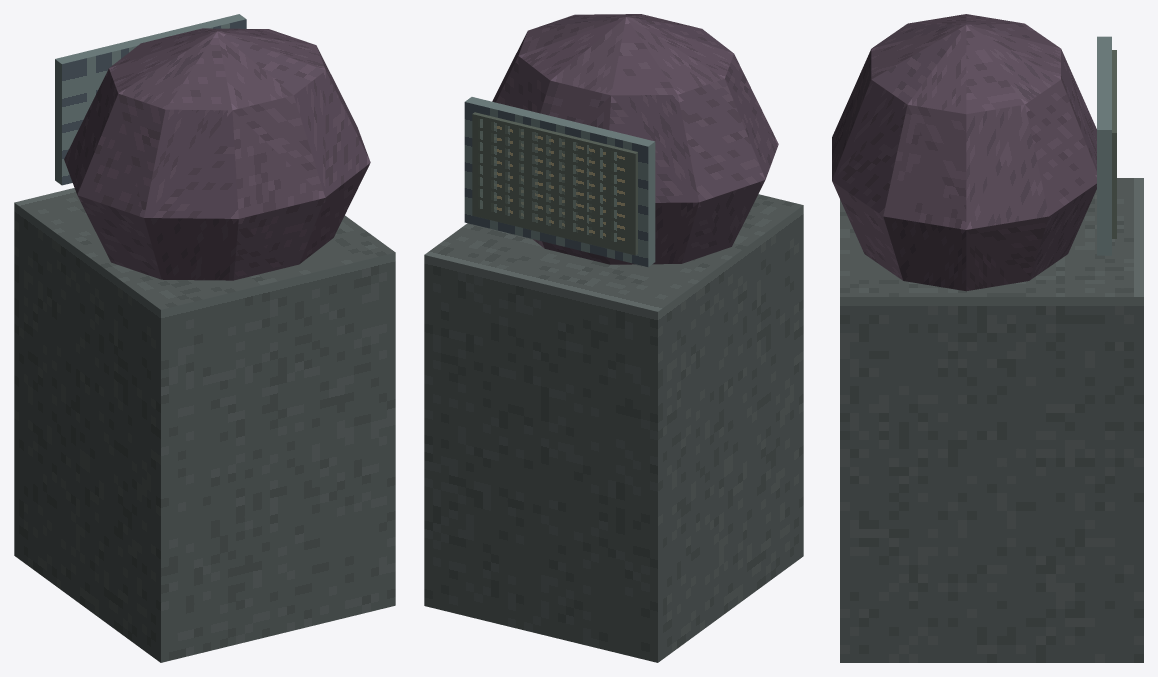
Rendered from f_string_dimension_distress_beacon_3.glb.
The picture shows the model from 3 angles, left to right: view 1: azimuth 30°, elevation 25°; view 2: azimuth 150°, elevation 25°; view 3: azimuth 270°, elevation 25°; orthographic projection. The views are drawn at different scales.
Visible parts, largest first — view 1: block_distress-beacon-pedestal, block_bulbous-monitor-shell, block_garbled-monitor-display; view 2: block_distress-beacon-pedestal, block_bulbous-monitor-shell, block_topological-map-overlay, block_garbled-monitor-display; view 3: block_distress-beacon-pedestal, block_bulbous-monitor-shell, block_garbled-monitor-display, block_topological-map-overlay.
Boxes of the visible parts, left/top/right/bottom form: block_distress-beacon-pedestal: left=14, top=188, right=395, bottom=662; block_bulbous-monitor-shell: left=64, top=28, right=370, bottom=280; block_garbled-monitor-display: left=55, top=14, right=246, bottom=185; block_distress-beacon-pedestal: left=424, top=194, right=803, bottom=662; block_bulbous-monitor-shell: left=492, top=14, right=778, bottom=264; block_topological-map-overlay: left=472, top=112, right=637, bottom=255; block_garbled-monitor-display: left=464, top=97, right=655, bottom=266; block_distress-beacon-pedestal: left=840, top=178, right=1143, bottom=662; block_bulbous-monitor-shell: left=832, top=14, right=1096, bottom=291; block_garbled-monitor-display: left=1097, top=36, right=1111, bottom=255; block_topological-map-overlay: left=1112, top=50, right=1116, bottom=238.
Size of the model in its own units: 0.706 by 1.34 by 0.6565.
1 material, 1 textured.
